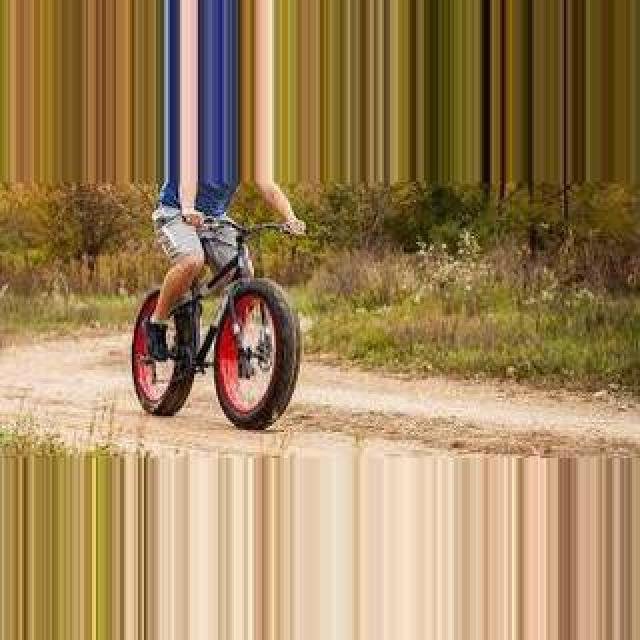Person: (130, 204, 306, 430)
